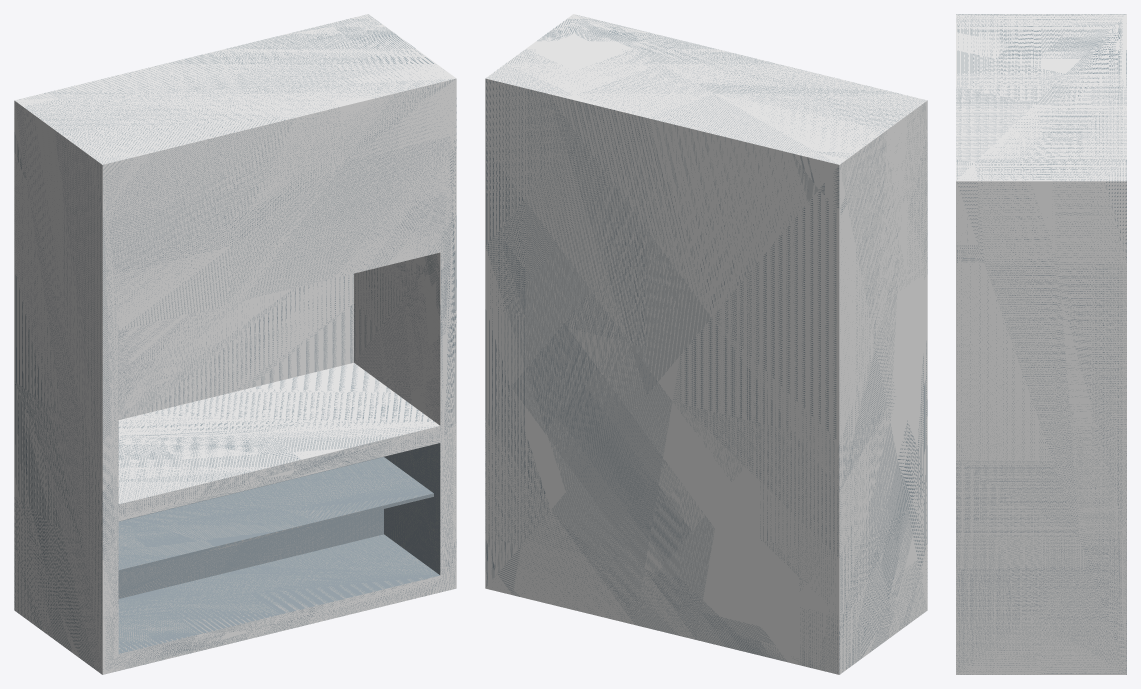
The model's file is FumeHood.obj.
3 views of the same model, side by side, from view 1: azimuth 30°, elevation 25°; view 2: azimuth 150°, elevation 25°; view 3: azimuth 270°, elevation 25° (orthographic). The views are drawn at different scales.
Parts seen in each view (by area): view 1: Mesh1 Model; view 2: Mesh1 Model; view 3: Mesh1 Model.
Boxes of the visible parts, x1,y1,x2,y2 form: Mesh1 Model: [14, 14, 456, 674]; Mesh1 Model: [485, 14, 927, 674]; Mesh1 Model: [956, 14, 1126, 674].
Bounding box in the file's own units: 2.18 × 3 × 0.94.
